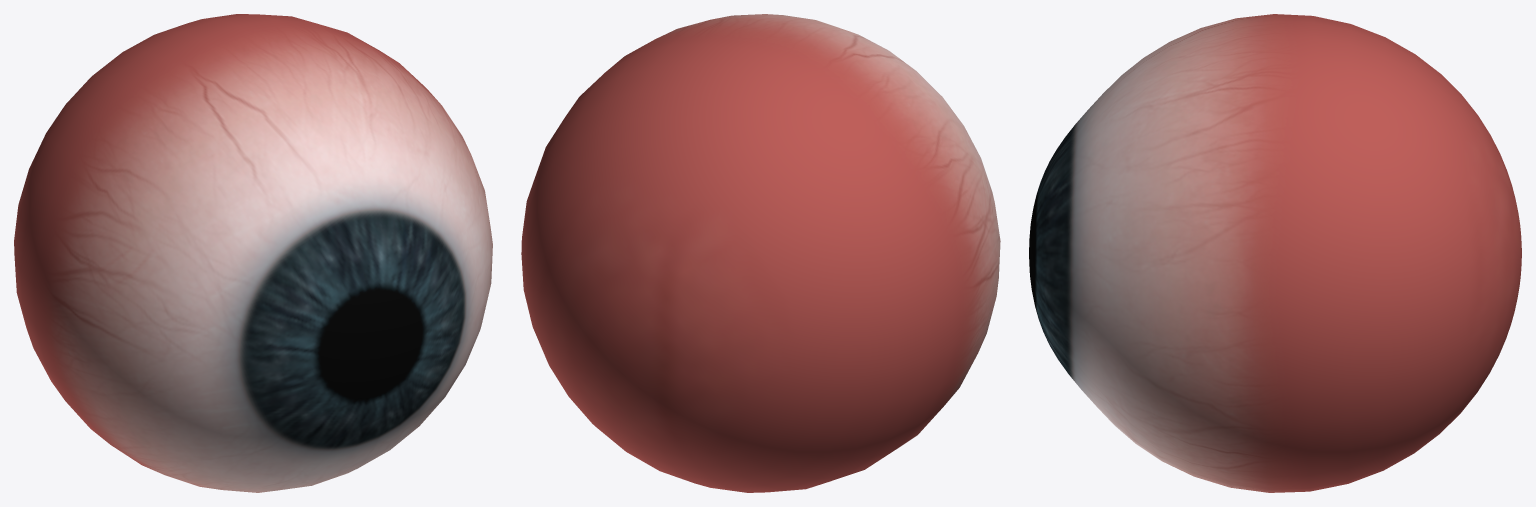
The picture shows the model from 3 angles, left to right: view 1: azimuth 30°, elevation 25°; view 2: azimuth 150°, elevation 25°; view 3: azimuth 270°, elevation 25°; orthographic projection.
Parts seen in each view (by area): view 1: iris; view 2: iris; view 3: iris.
Boxes of the visible parts, <box> form: iris: <box>14,14,492,492</box>; iris: <box>521,14,1000,492</box>; iris: <box>1029,14,1521,492</box>.
Size of what is drawn, in the model's own units: 0.0199 by 0.02 by 0.0205.
1 material, 1 textured.
